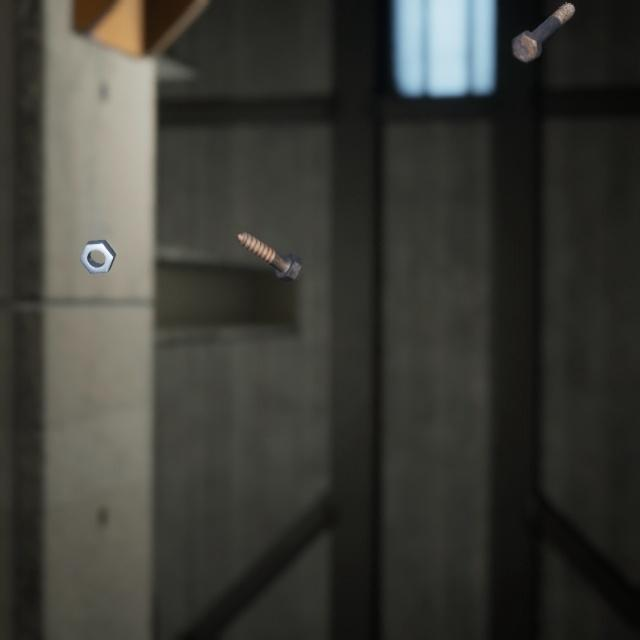bolt: (232, 210, 306, 270), (506, 0, 579, 59)
nut: (75, 219, 121, 262)
